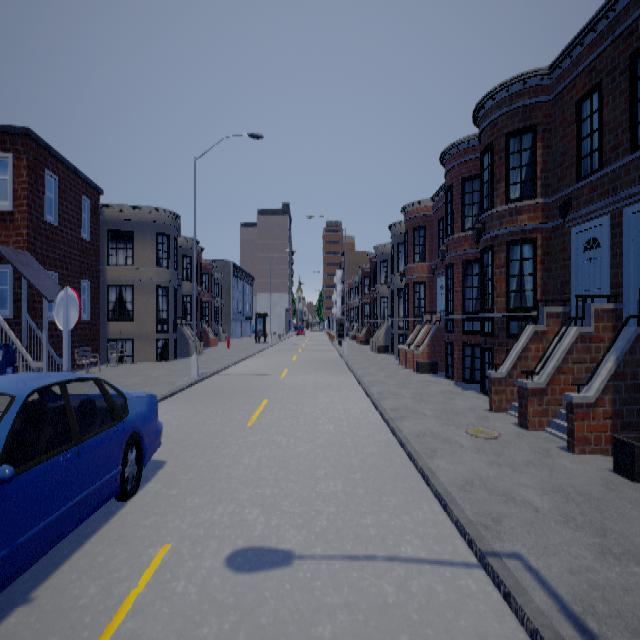traffic_sign: (53, 284, 81, 336)
vehicle: (0, 371, 162, 591)
